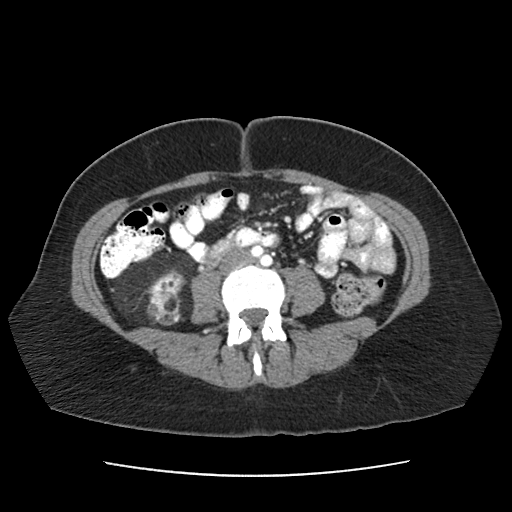Lesion: (104, 266, 195, 332)
